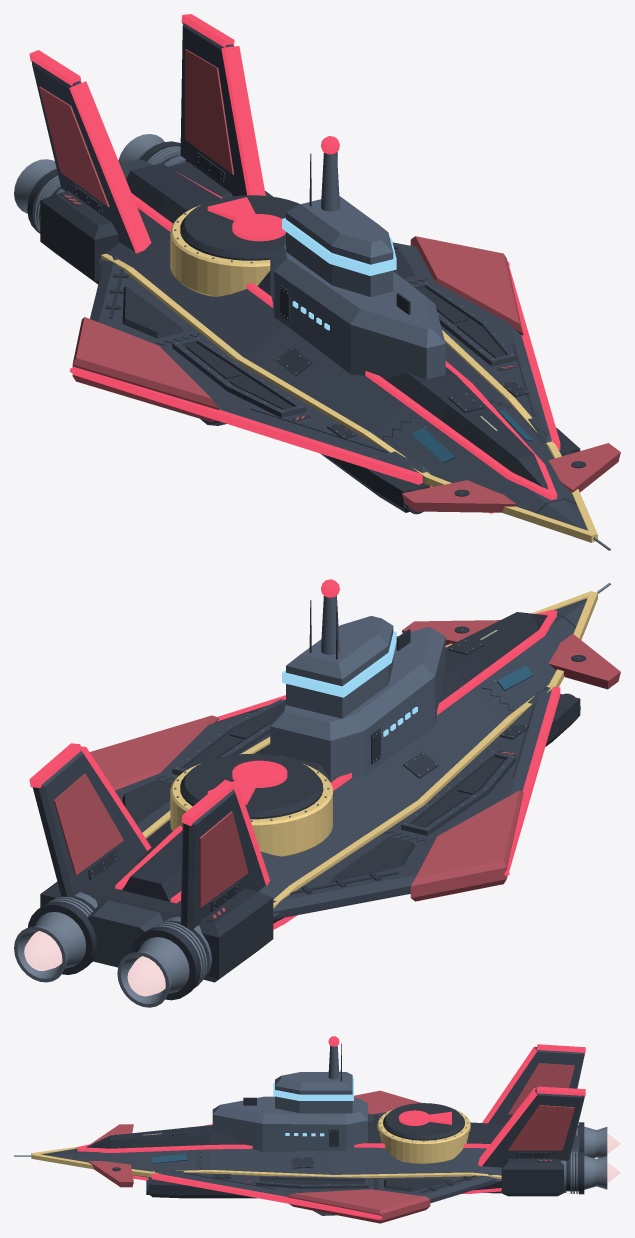
The model's file is seal_wreck.glb.
3 renders of one model, top to bottom at view 1: azimuth 30°, elevation 25°; view 2: azimuth 150°, elevation 25°; view 3: azimuth 270°, elevation 25°, orthographic. The views are drawn at different scales.
Parts seen in each view (by area): view 1: seal_wreck_00, seal_wreck_06, seal_wreck_05, seal_wreck_12, seal_wreck_01, seal_wreck_08, seal_wreck_02, seal_wreck_09, seal_wreck_03, seal_wreck_13, seal_wreck_04, seal_wreck_10 (+2 smaller); view 2: seal_wreck_00, seal_wreck_05, seal_wreck_01, seal_wreck_06, seal_wreck_11, seal_wreck_02, seal_wreck_08, seal_wreck_12, seal_wreck_10, seal_wreck_04, seal_wreck_13, seal_wreck_09 (+2 smaller); view 3: seal_wreck_02, seal_wreck_09, seal_wreck_03, seal_wreck_00, seal_wreck_08, seal_wreck_04, seal_wreck_11, seal_wreck_13, seal_wreck_10, seal_wreck_06, seal_wreck_01, seal_wreck_07 (+2 smaller).
Boxes of the visible parts, box(x1,y1,x2,y2) form: seal_wreck_00: box(149, 220, 423, 425); seal_wreck_06: box(202, 295, 450, 497); seal_wreck_05: box(69, 222, 246, 405); seal_wreck_12: box(376, 404, 561, 516); seal_wreck_01: box(14, 109, 178, 284); seal_wreck_08: box(165, 14, 257, 191); seal_wreck_02: box(145, 148, 299, 250); seal_wreck_09: box(420, 292, 544, 391); seal_wreck_03: box(448, 366, 620, 488); seal_wreck_13: box(29, 50, 141, 219); seal_wreck_04: box(392, 236, 521, 308); seal_wreck_10: box(282, 136, 395, 255); seal_wreck_00: box(267, 622, 527, 834); seal_wreck_05: box(262, 770, 519, 929); seal_wreck_01: box(123, 856, 289, 1007); seal_wreck_06: box(395, 627, 559, 808); seal_wreck_11: box(14, 868, 146, 995); seal_wreck_02: box(120, 754, 309, 867); seal_wreck_08: box(29, 743, 164, 870); seal_wreck_12: box(477, 612, 620, 738); seal_wreck_10: box(282, 579, 387, 701); seal_wreck_04: box(90, 729, 211, 805); seal_wreck_13: box(181, 779, 263, 862); seal_wreck_09: box(167, 695, 285, 759); seal_wreck_02: box(362, 1105, 511, 1199); seal_wreck_09: box(217, 1111, 357, 1215); seal_wreck_03: box(97, 1128, 233, 1198); seal_wreck_00: box(252, 1078, 393, 1166); seal_wreck_08: box(501, 1086, 585, 1172); seal_wreck_04: box(319, 1165, 443, 1223); seal_wreck_11: box(504, 1138, 620, 1196); seal_wreck_13: box(488, 1044, 585, 1116); seal_wreck_10: box(275, 1036, 353, 1111); seal_wreck_06: box(182, 1097, 258, 1145); seal_wreck_01: box(484, 1079, 620, 1193); seal_wreck_07: box(14, 1144, 101, 1171).
Bounding box in the file's own units: 4.67 × 2.76 × 9.77.
